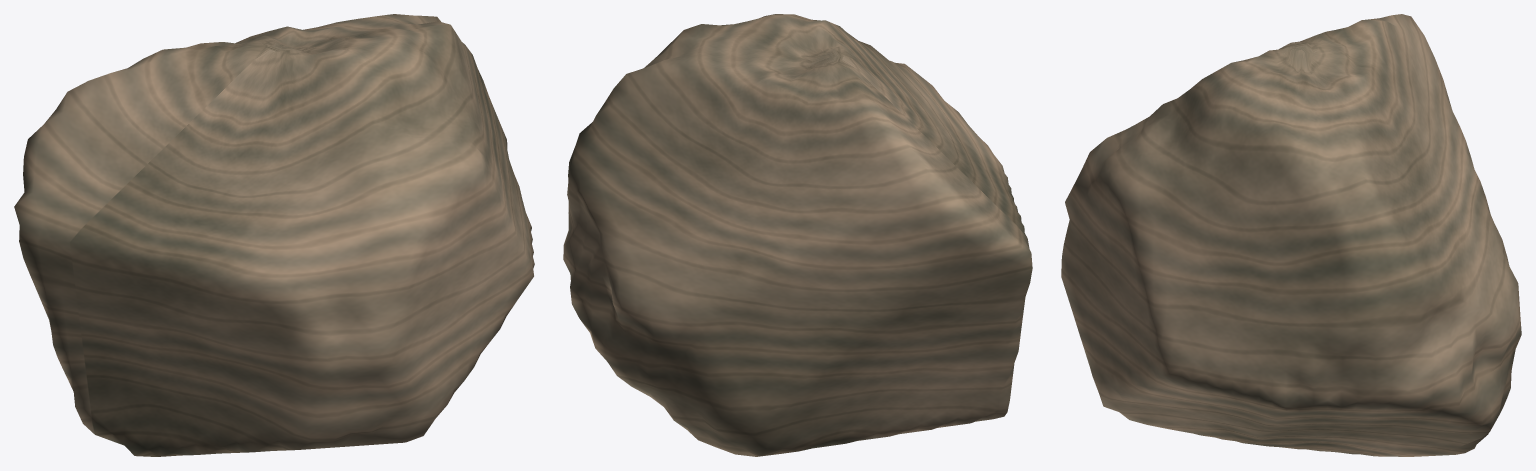
File: PZ_R07_Fractured_Outcrop_Sediment.glb
3 views of the same model, side by side, from view 1: azimuth 30°, elevation 25°; view 2: azimuth 150°, elevation 25°; view 3: azimuth 270°, elevation 25° (orthographic). The views are drawn at different scales.
Visible parts, largest first — view 1: RENDER_R07_Fractured_Outcrop_Sediment; view 2: RENDER_R07_Fractured_Outcrop_Sediment; view 3: RENDER_R07_Fractured_Outcrop_Sediment.
Part boxes in pixels (x1=…): RENDER_R07_Fractured_Outcrop_Sediment: x1=14, y1=14, x2=534, y2=456; RENDER_R07_Fractured_Outcrop_Sediment: x1=563, y1=14, x2=1032, y2=456; RENDER_R07_Fractured_Outcrop_Sediment: x1=1061, y1=14, x2=1521, y2=456.
Size of the model in its own units: 2.4 by 1.76 by 1.93.
Materials: 1 (1 with a texture image).
